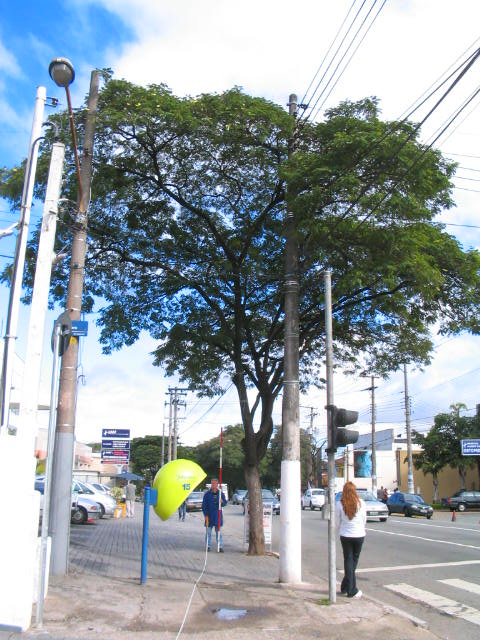crown: (7, 65, 480, 412)
stem: (236, 445, 275, 555)
stick: (215, 426, 225, 553)
tree: (4, 65, 479, 558)
